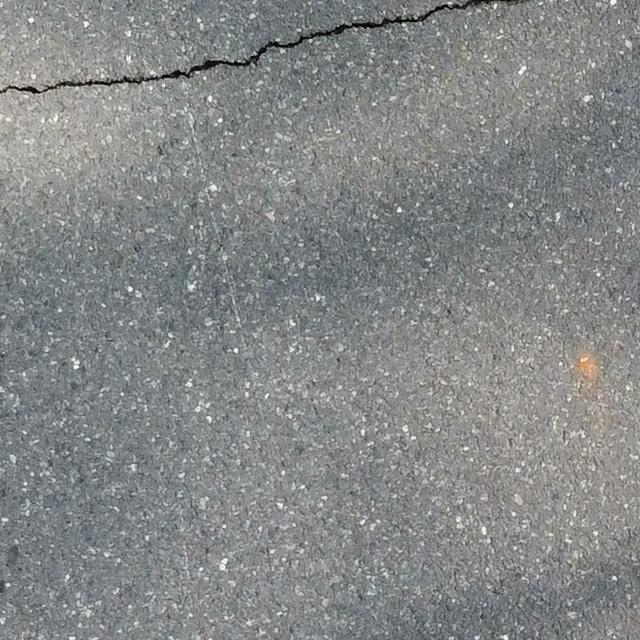TransverseCrack: (1, 1, 494, 95)
